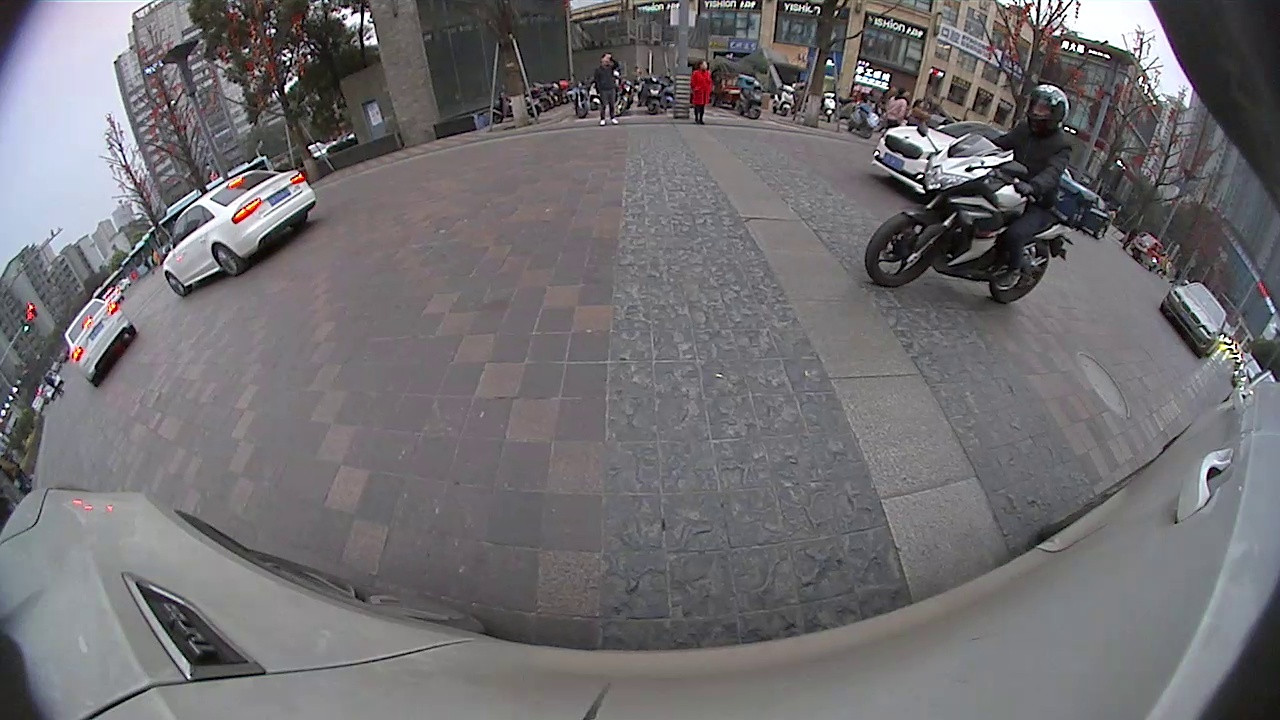car: (161, 166, 319, 300), (868, 117, 1006, 199), (61, 295, 139, 388), (1157, 280, 1231, 361)
front: (860, 206, 942, 292), (158, 271, 190, 296)
person: (691, 59, 711, 127), (601, 50, 615, 123)
rear: (986, 239, 1050, 305), (211, 243, 241, 277)
rider: (863, 82, 1114, 307)
